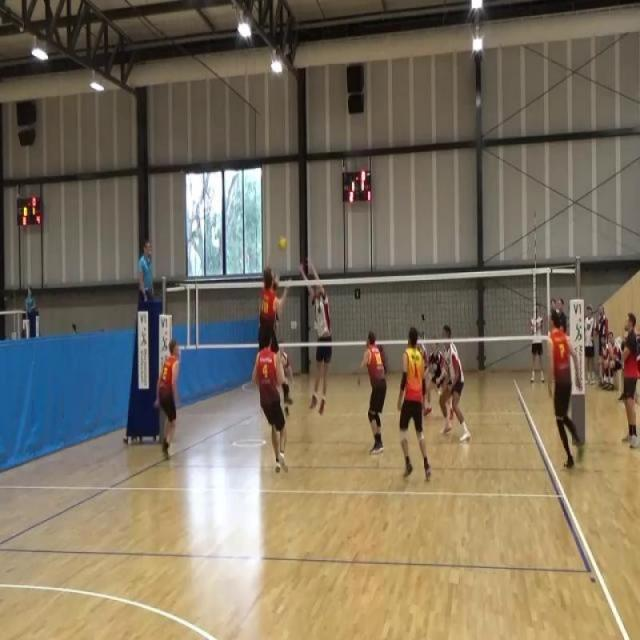volleyball: (276, 235, 288, 252)
